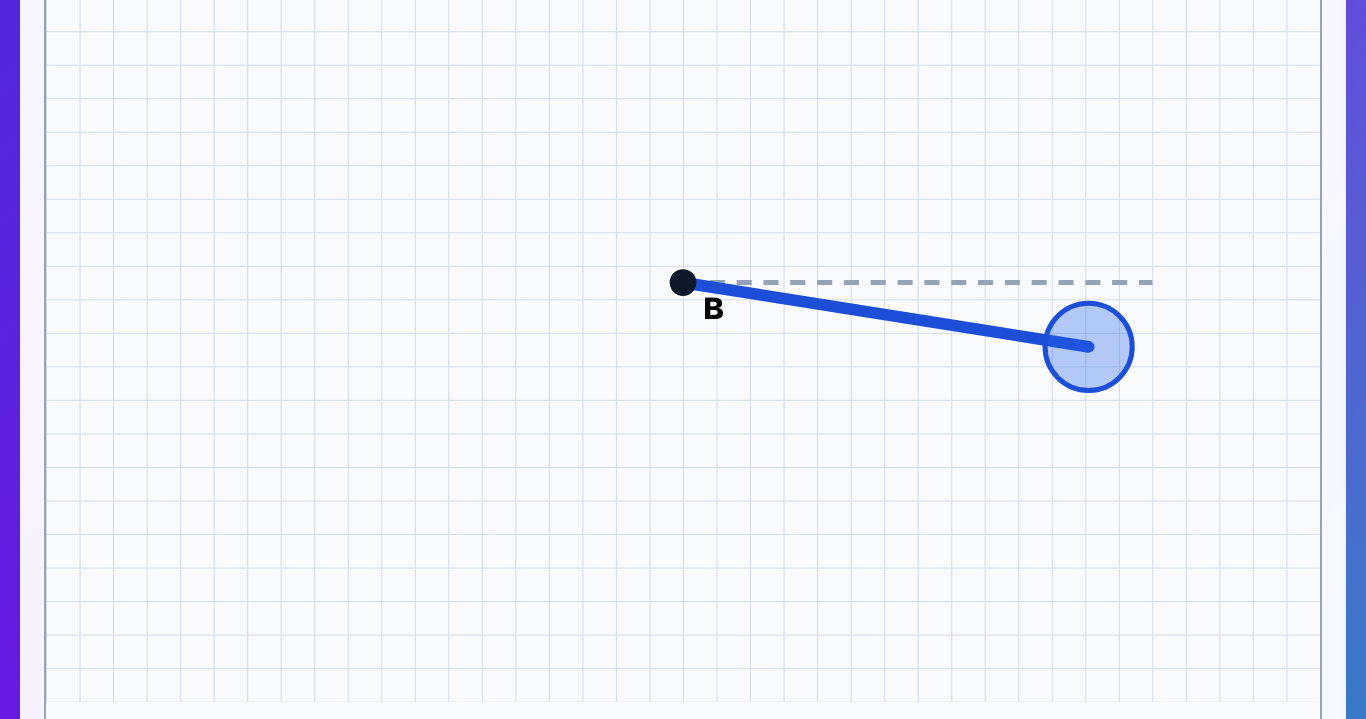
Scenario: WP-S4-03B — geometry-lab rysowania kątów › ma dotykowe uchwyty 52 px i klawiaturowe kroki 1/5 px oraz 1/5°
(page scrolled)
Press ArrowRight in the slider labelled "Ustaw koniec promienia bazowego A", box [1045,303,1132,391]
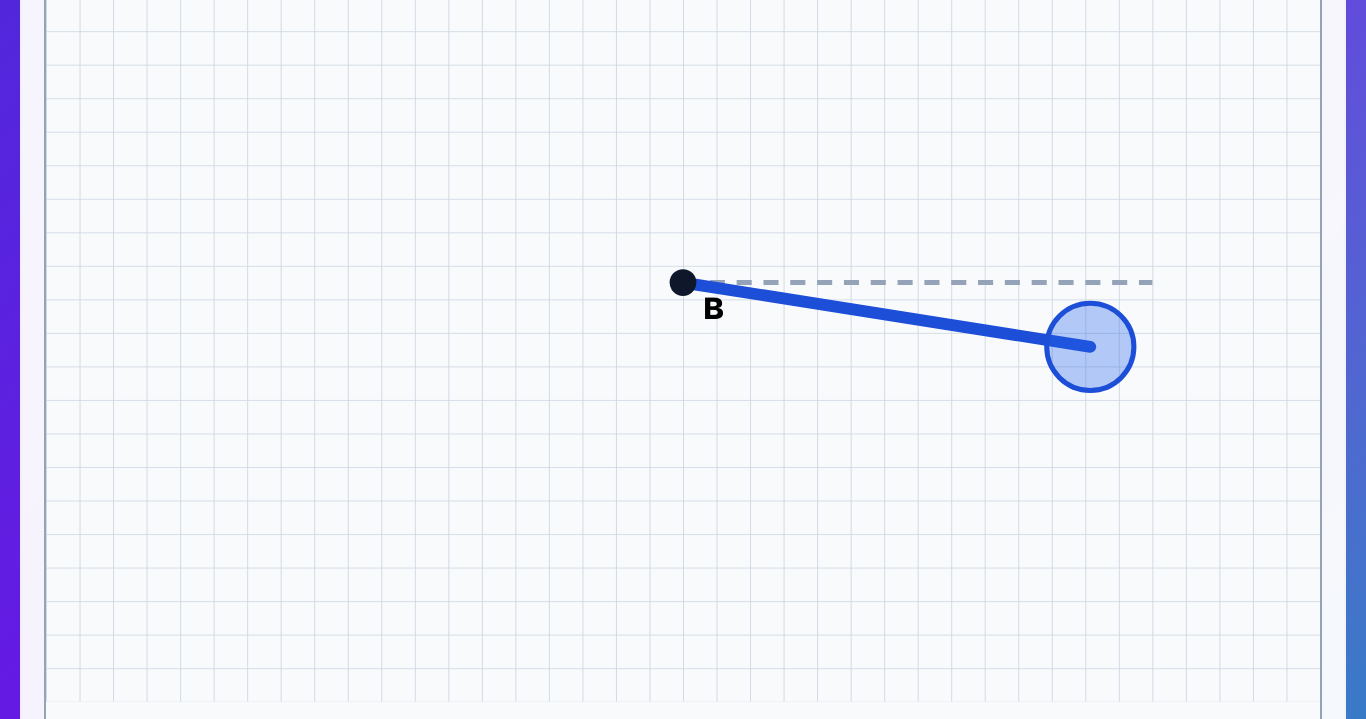
Press ArrowDown in the slider labelled "Ustaw koniec promienia bazowego A", box [1047,303,1134,391]
(page scrolled)
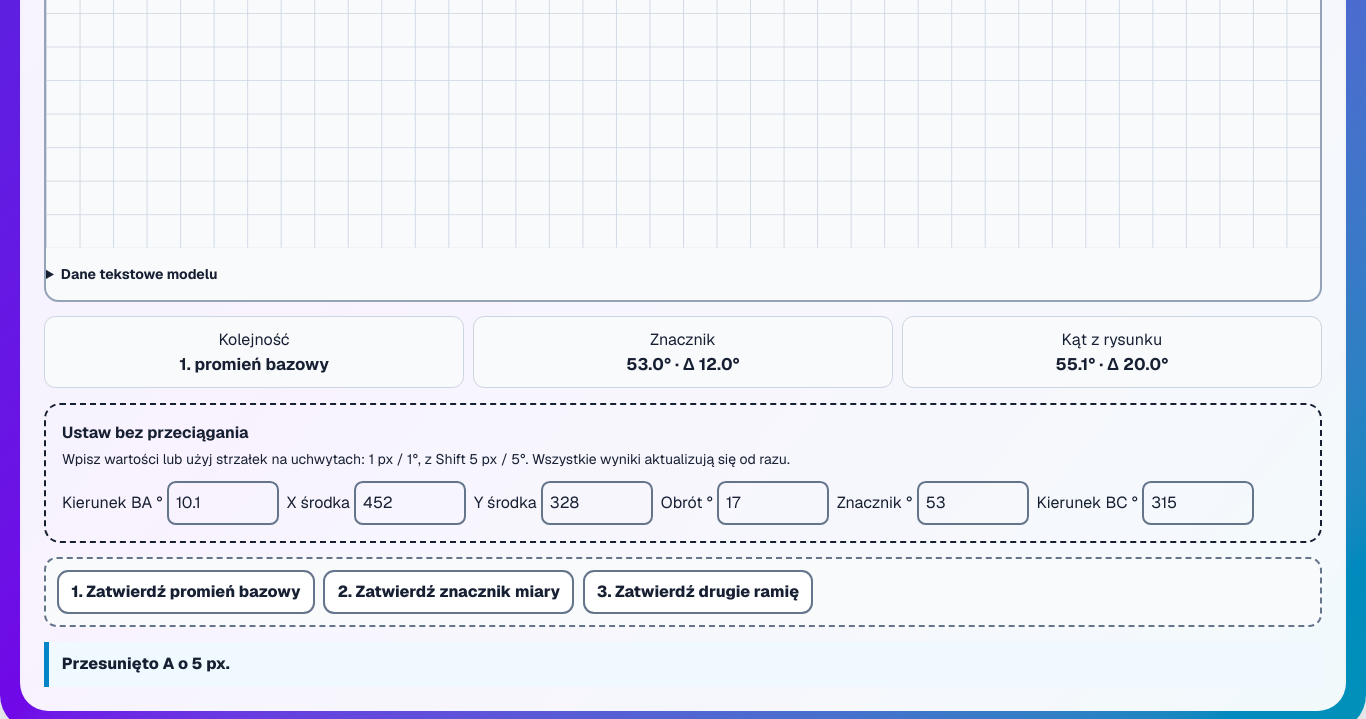
Expected: the message shows "5 px", [62,653,230,674]
Replace the text in the number field named "Kierunek promienia bazowego" with "0" at (223, 503), box [167,481,279,525]
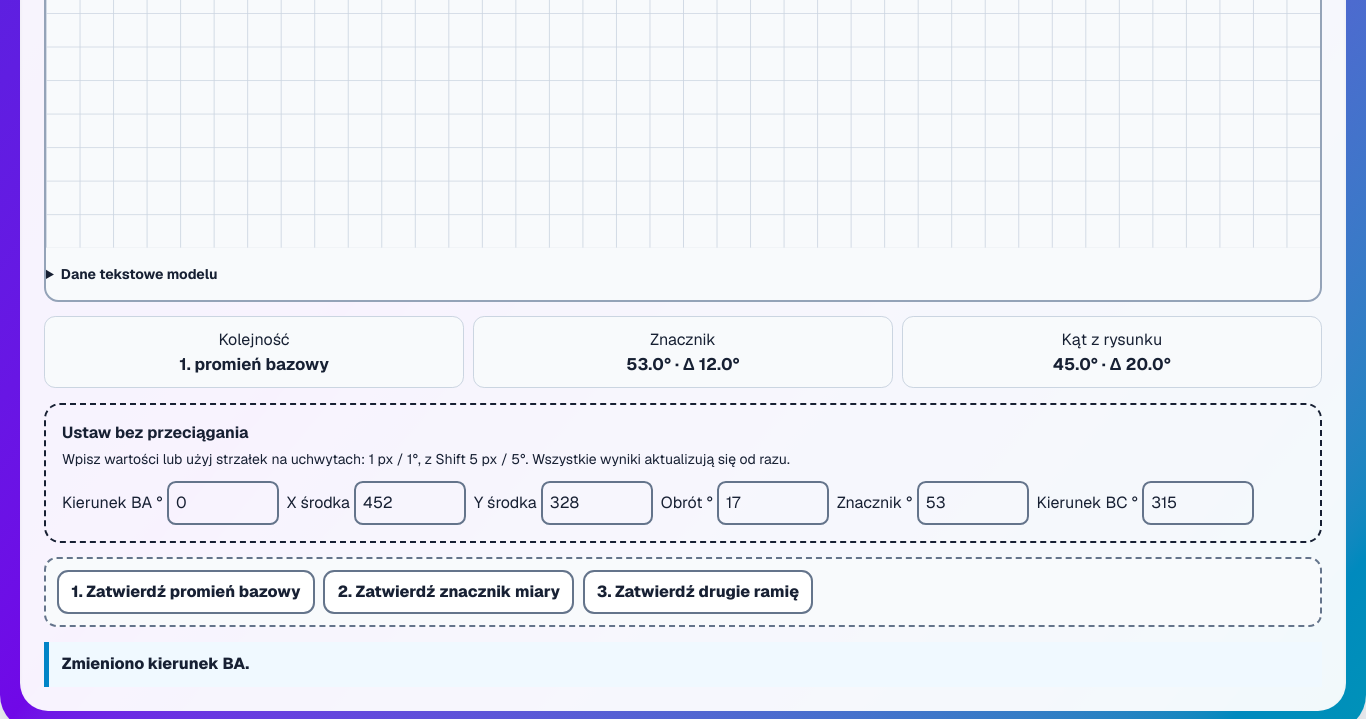
Click the button "1. Zatwierdź promień bazowy" at (186, 592), box [57,570,315,614]
(page scrolled)
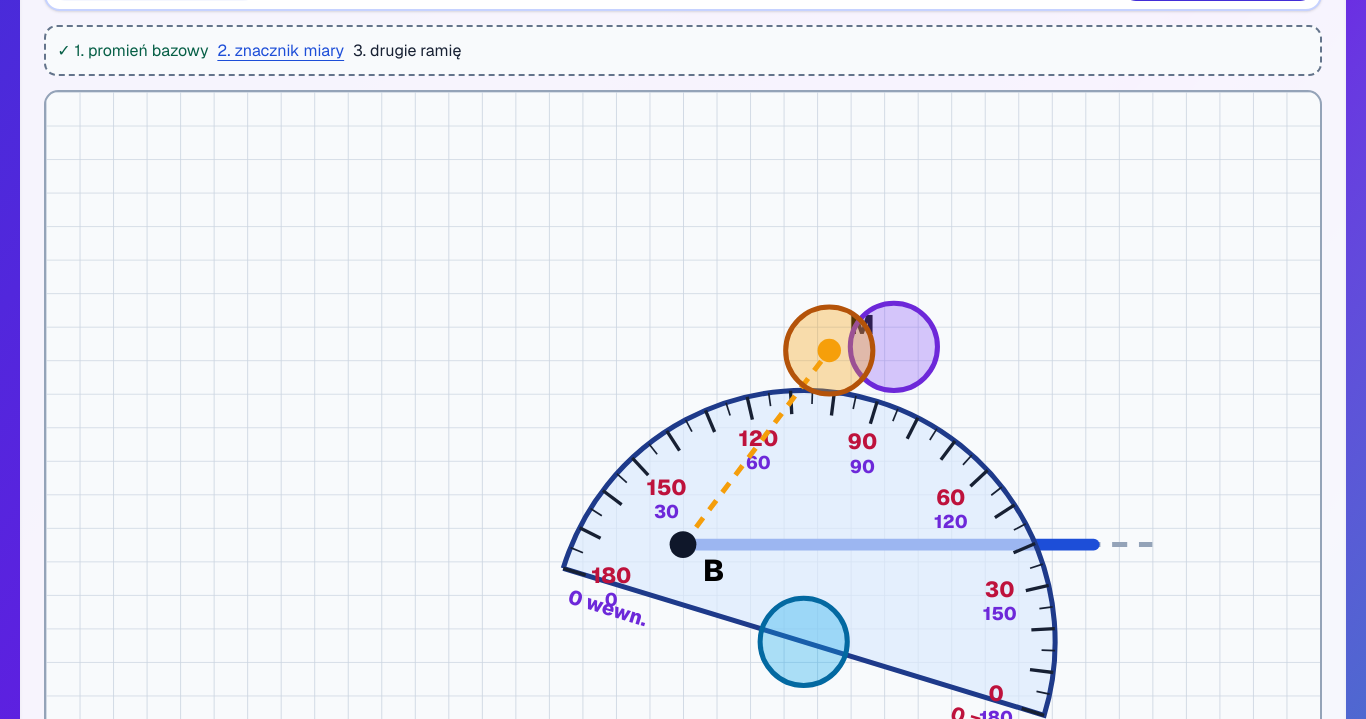
Press ArrowRight in the slider labelled "Obróć kątomierz", box [850,303,938,391]
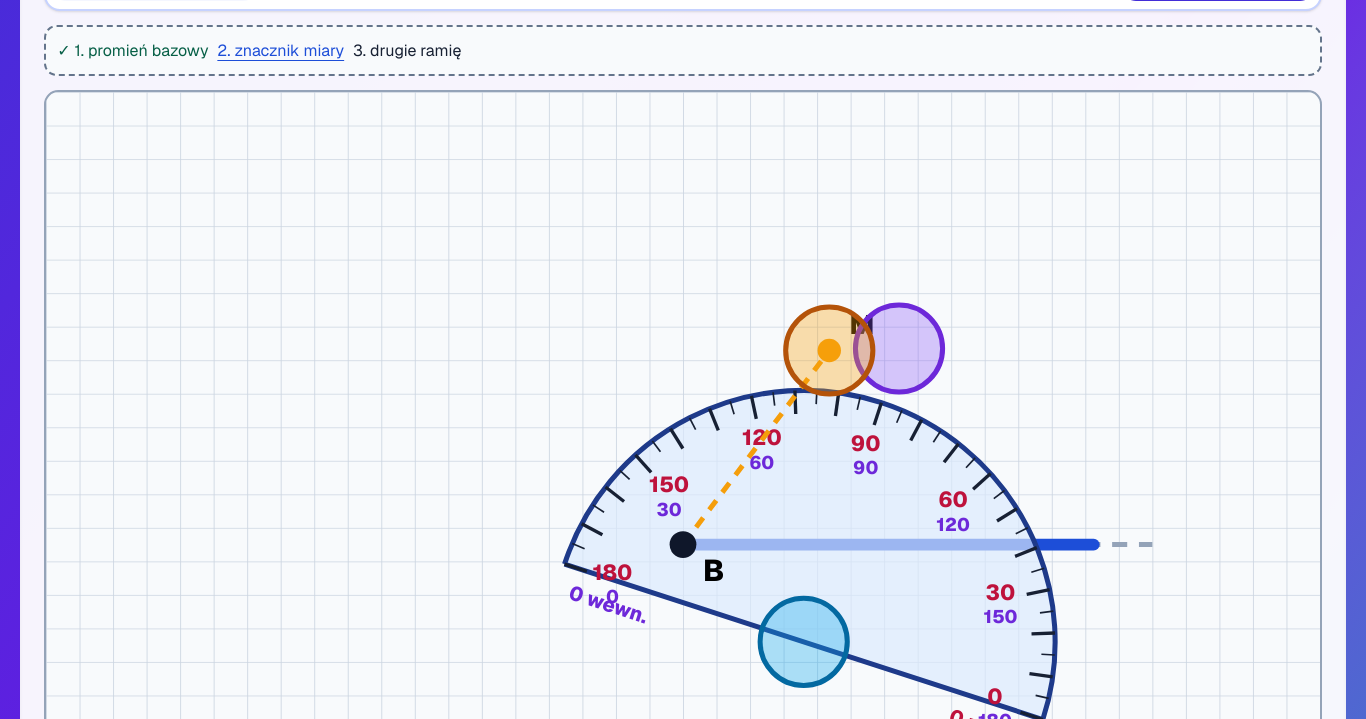
Press ArrowLeft in the slider labelled "Obróć kątomierz", box [855,305,943,392]
(page scrolled)
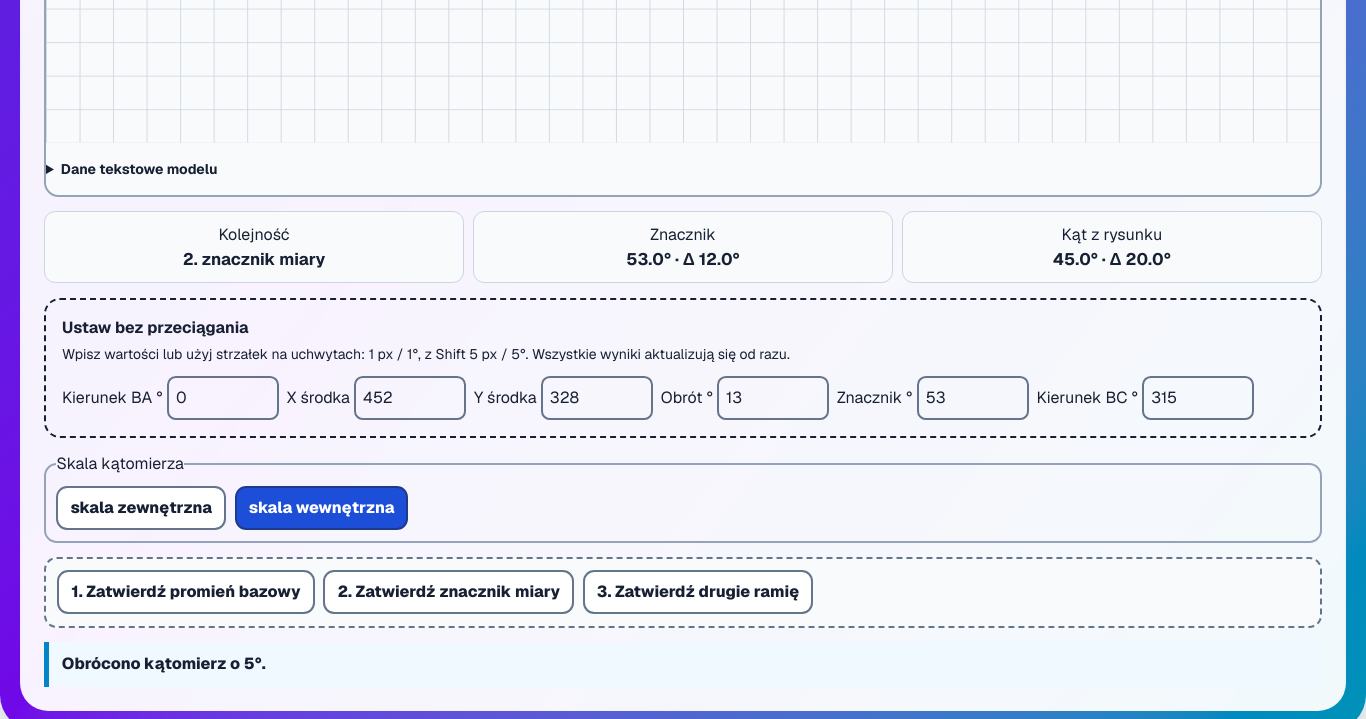
Expected: the message shows "5°", [62,653,266,674]
